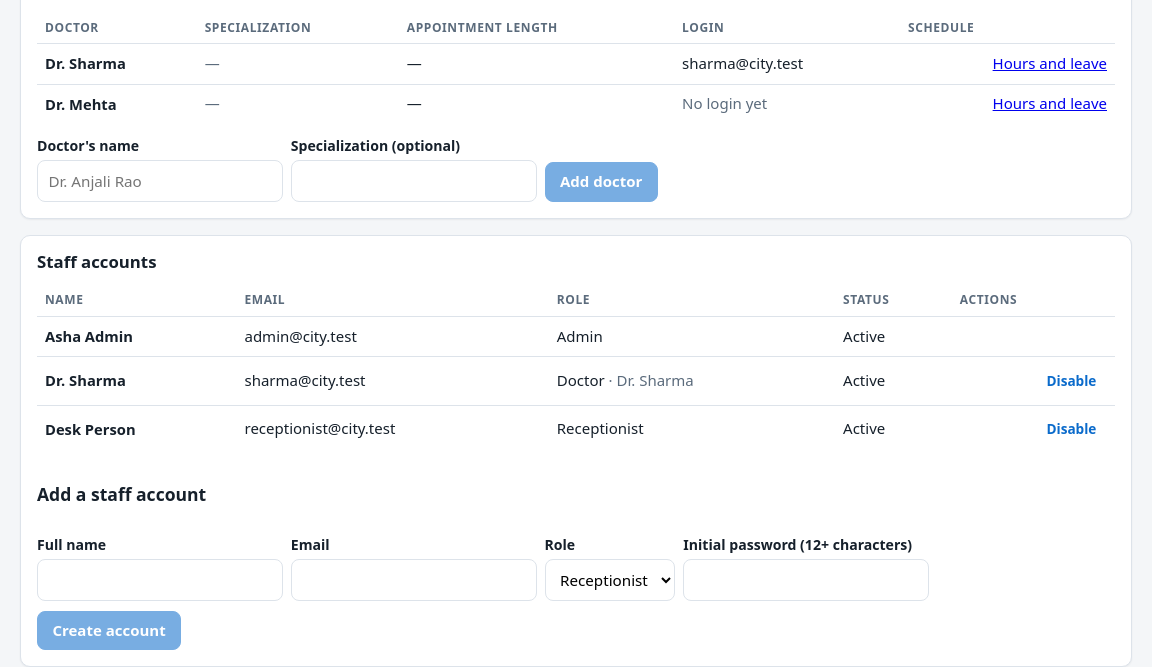
Scenario: TeamScreen › shows the server's reason when an account cannot be created
(page scrolled)
Expected: the heading "Staff accounts" is shown, top-left (37, 250), bottom-right (156, 273)
Type "Someone" into the field labelled "Full name" at (160, 580), box top-left (37, 559), bottom-right (283, 601)
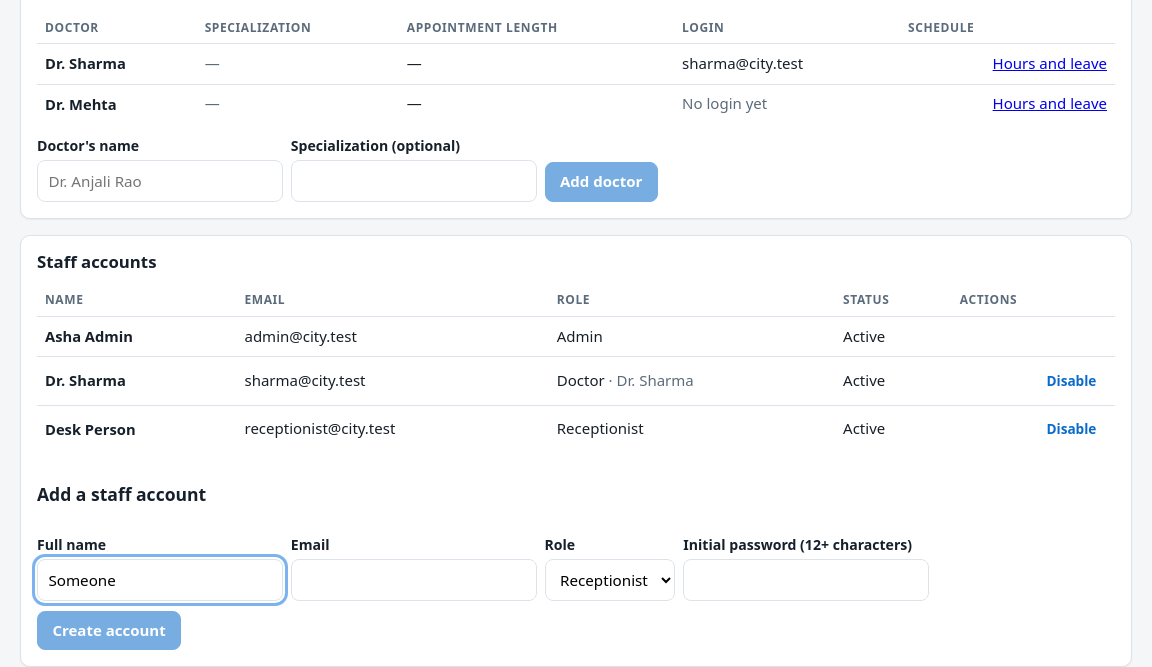
Type "desk@city.test" into the field labelled "Email" at (414, 580), box top-left (291, 559), bottom-right (537, 601)
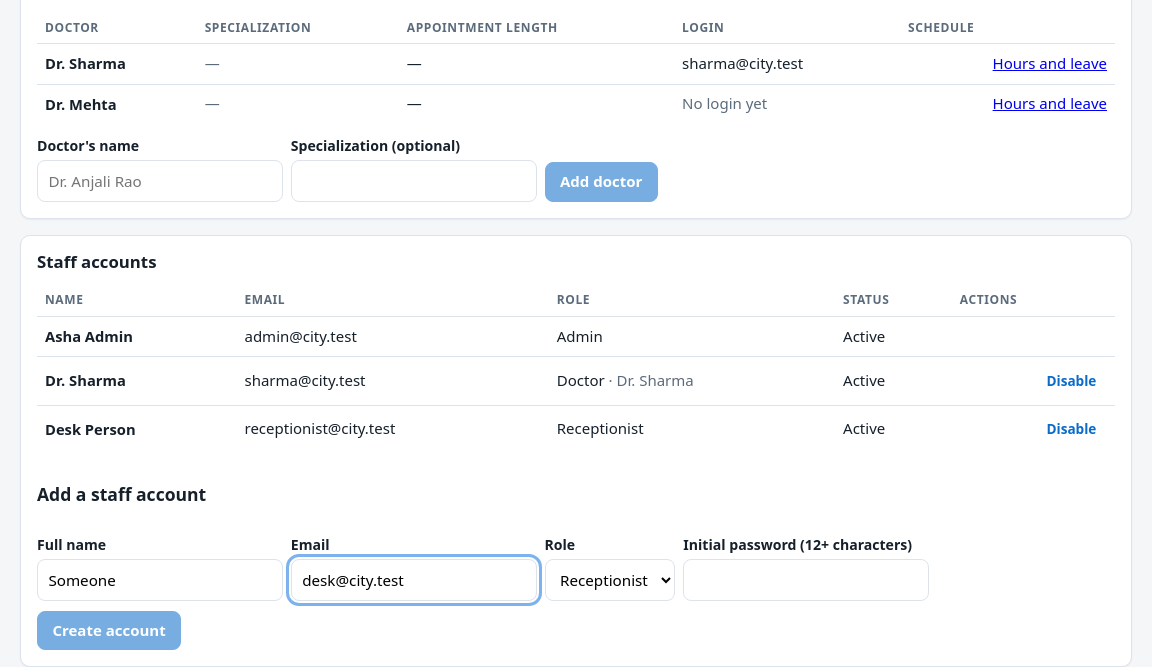
Type "a-long-initial-pass" into the password field labelled "Initial password (12+ characters)" at (806, 580), box top-left (683, 559), bottom-right (929, 601)
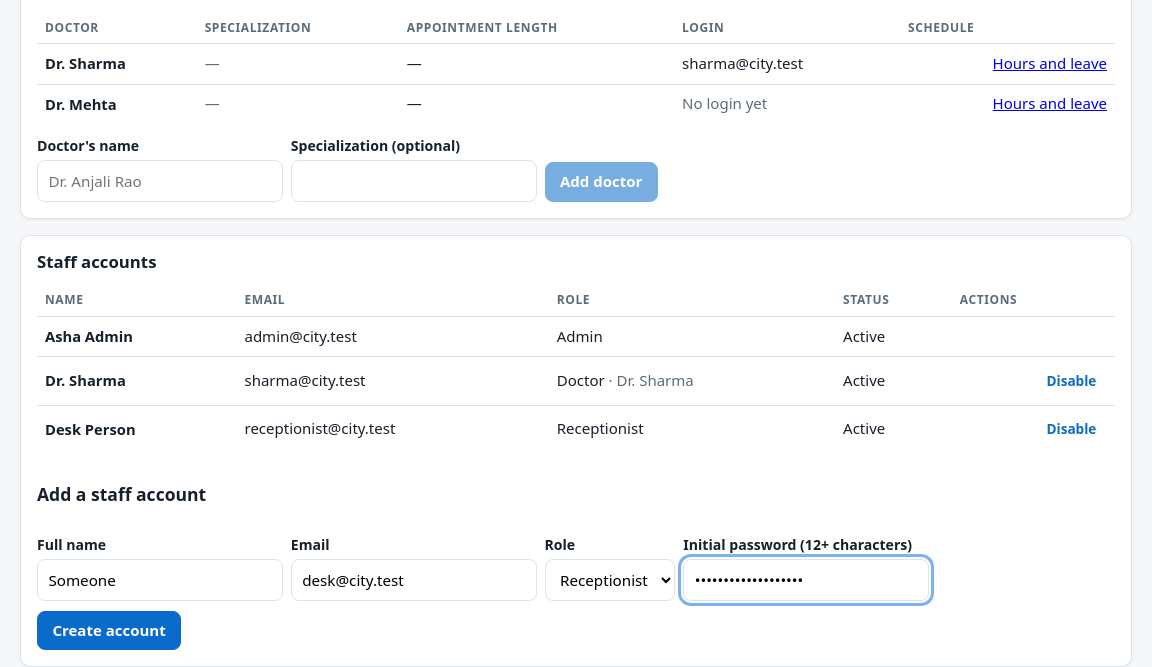
Click the button "Create account" at (109, 630), box top-left (37, 611), bottom-right (181, 650)
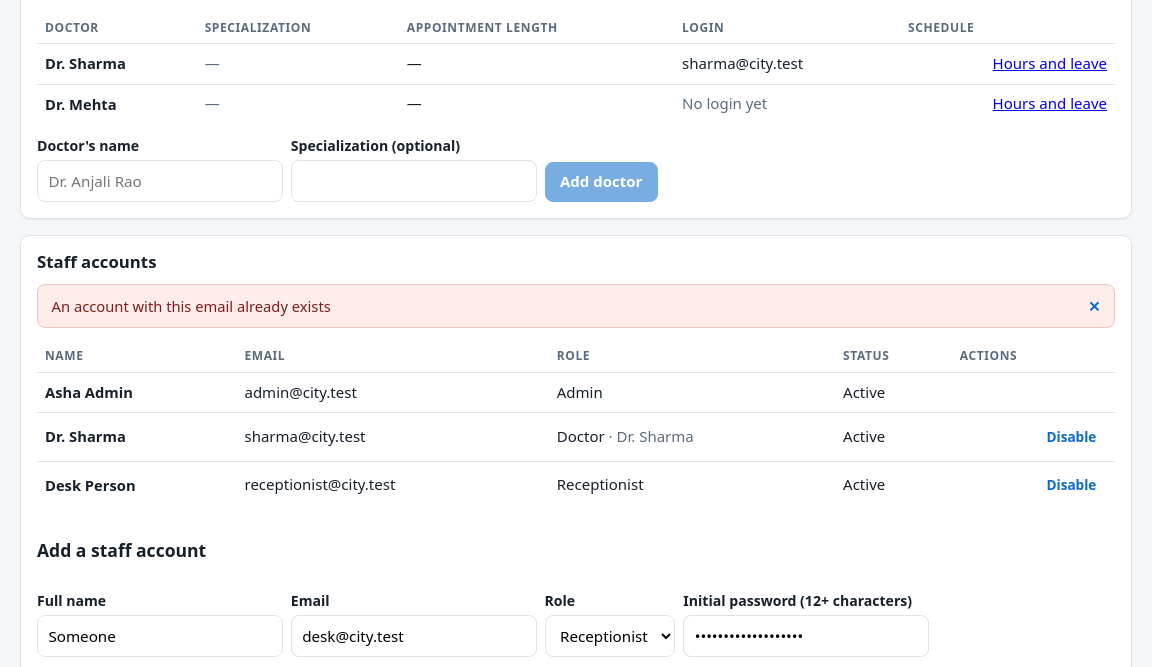
Expected: the message shows "An account with this email already exists", top-left (52, 296), bottom-right (331, 316)
